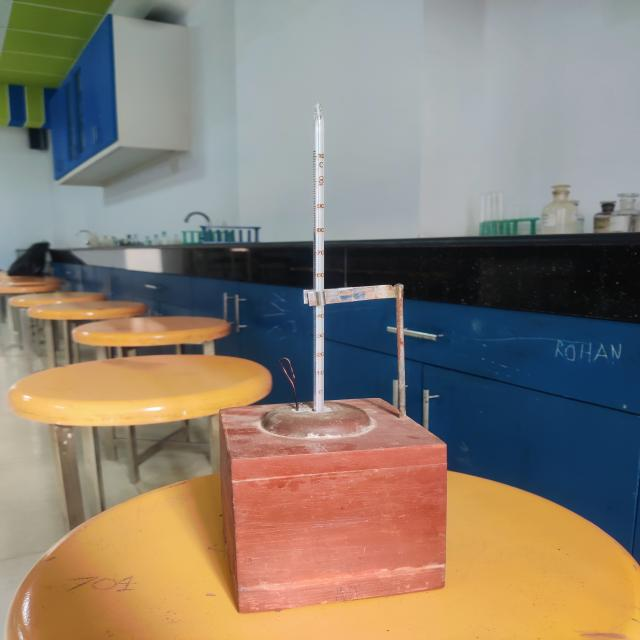Calorimeter: (171, 75, 502, 640)
